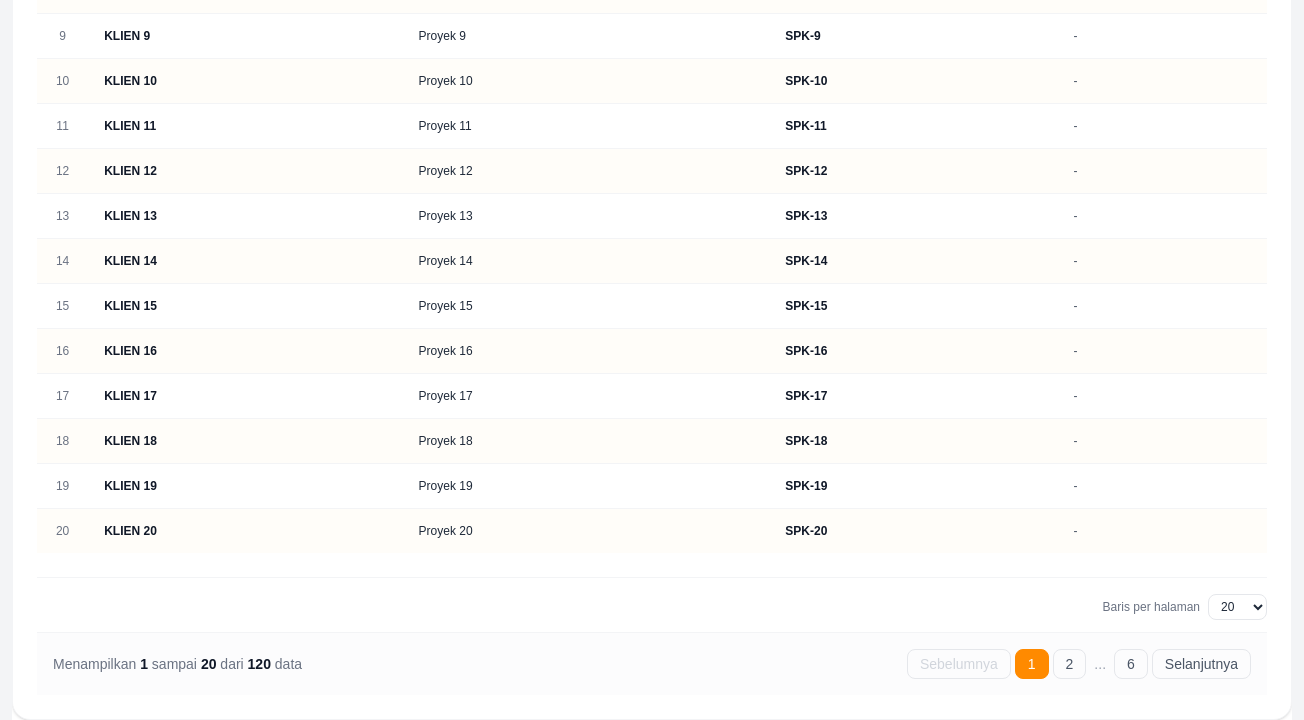
DaftarProyek › shows 20 rows per page by default and pages through all rows
(page scrolled)
Click the button "Selanjutnya".
click(1201, 664)  # box [1152,649,1251,679]
(page scrolled)
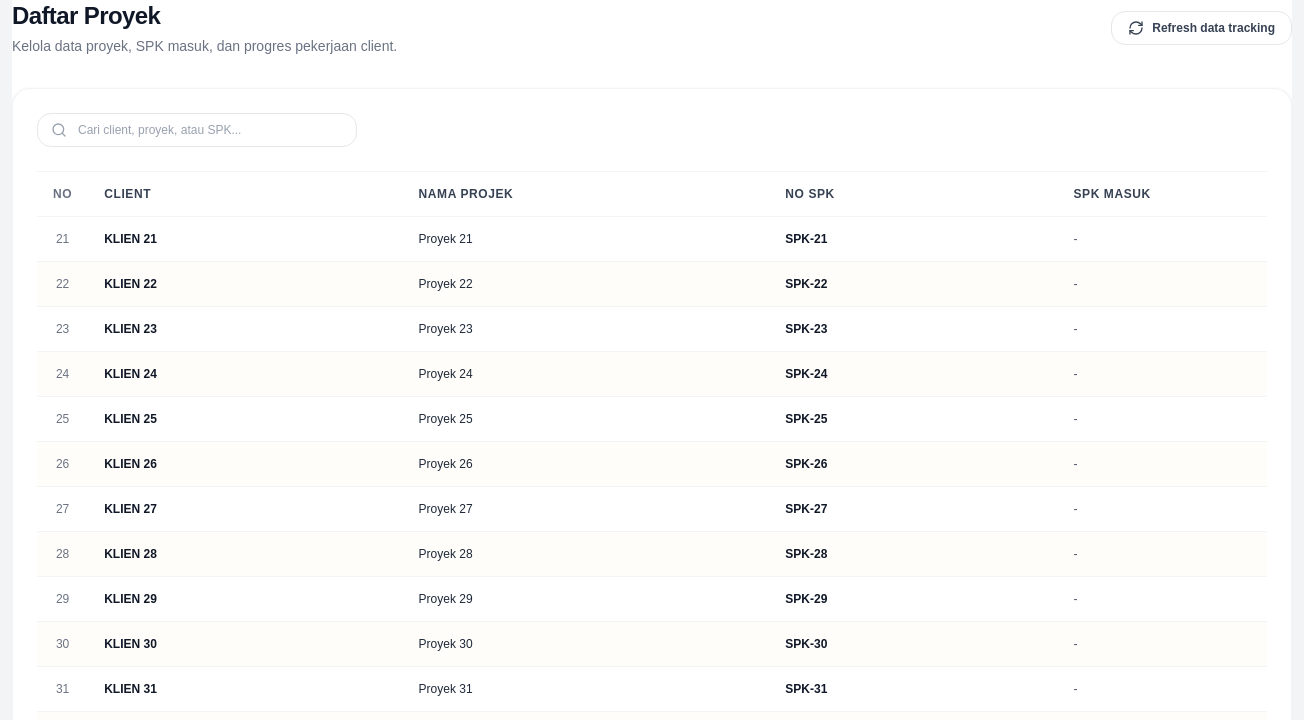
Expected: the text "SPK-21" is shown, [769,216,1057,262]
